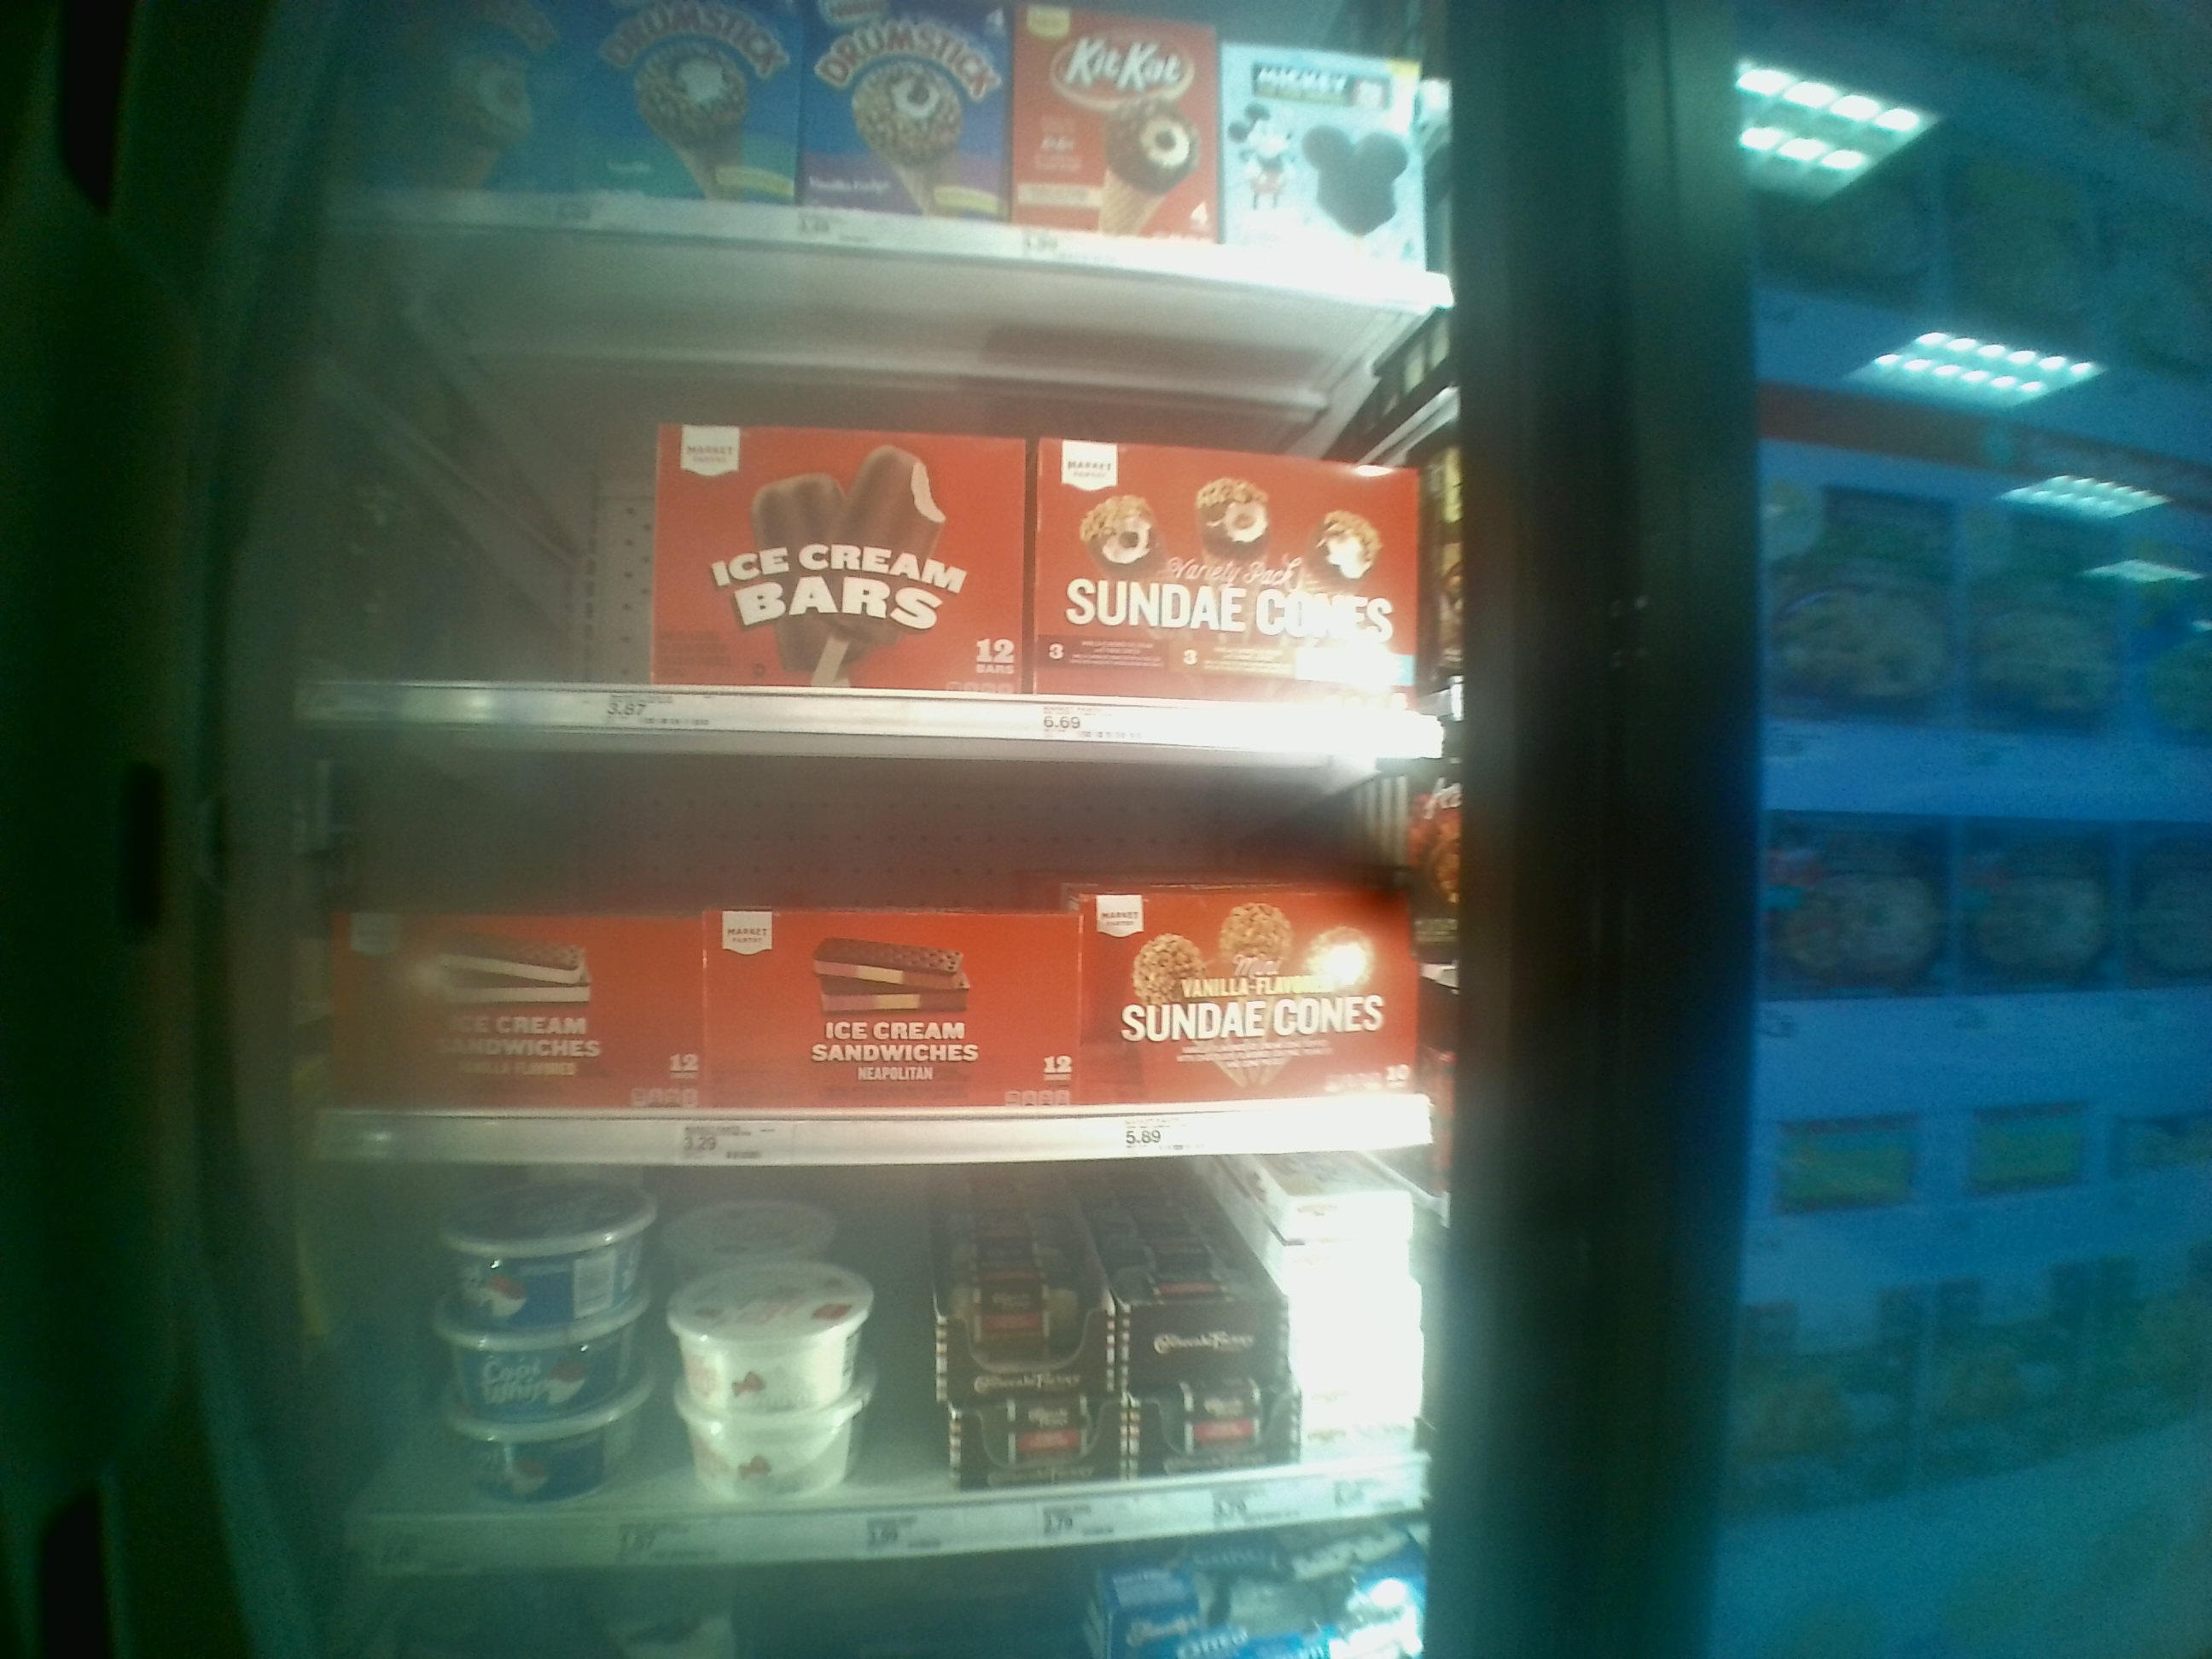shelf: (293, 295, 1446, 730), (301, 730, 1458, 1157)
